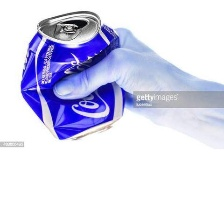can: (13, 2, 128, 144)
